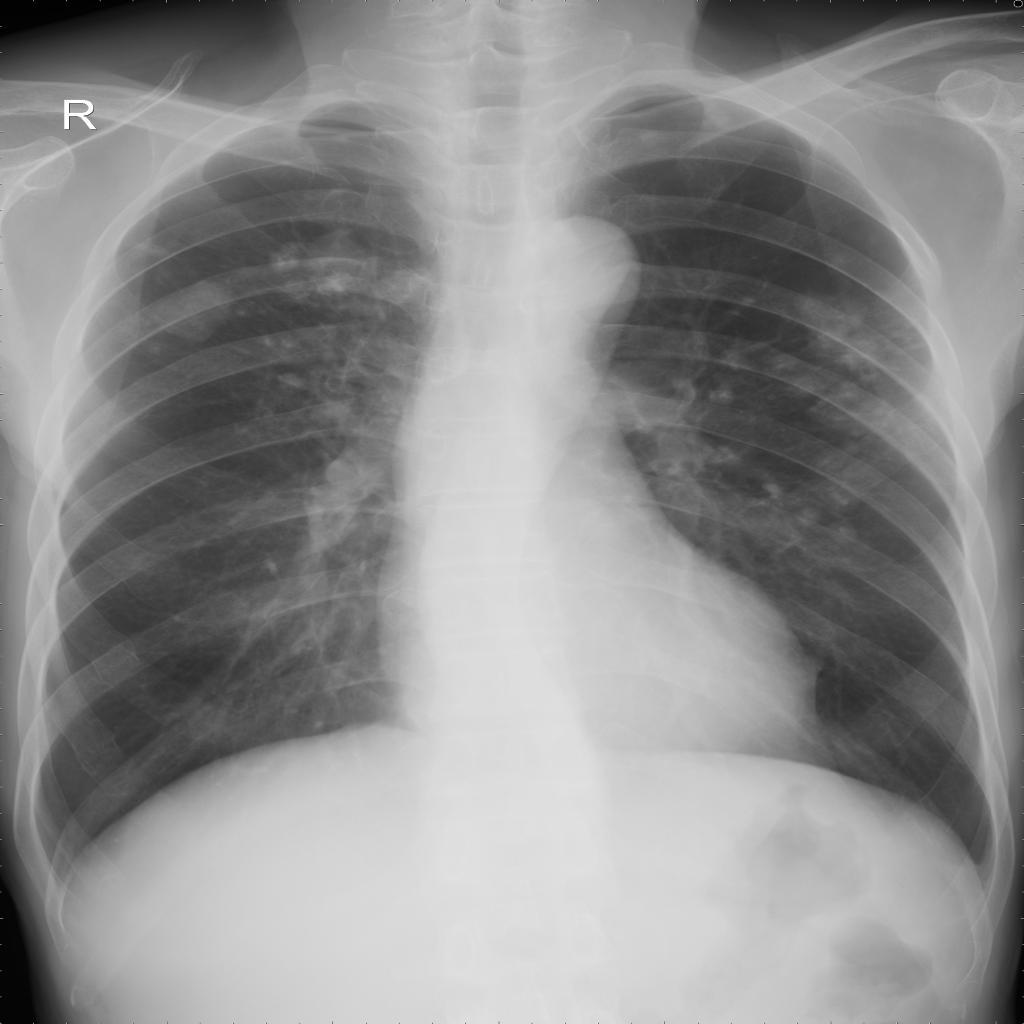Nodule: (274, 224, 380, 300), (150, 283, 233, 338)
